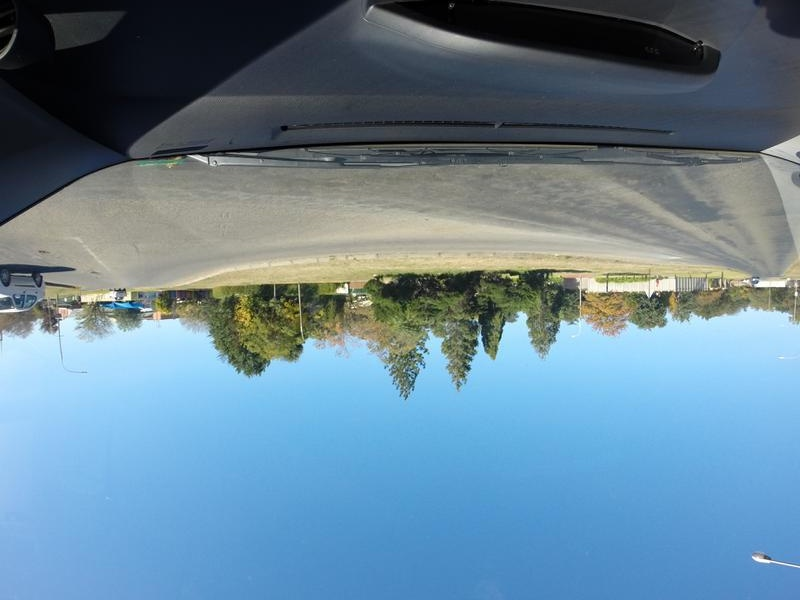pothole: (32, 241, 53, 258), (83, 261, 101, 280)
